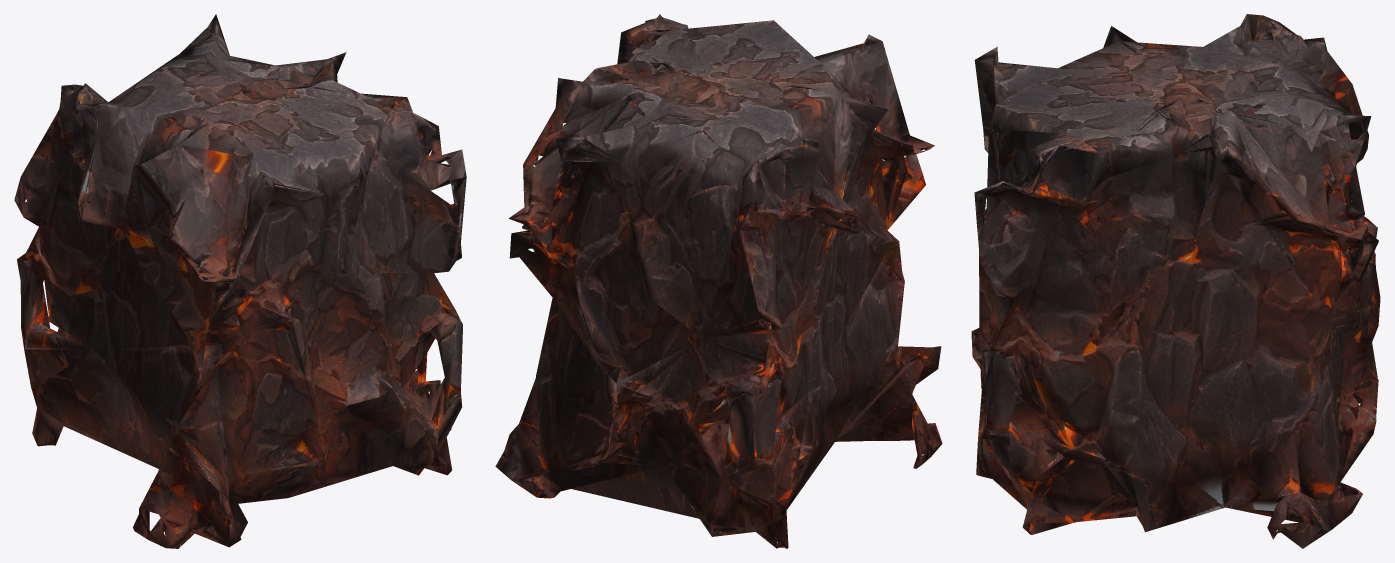
File: Tile_Lava_Wall.fbx
The picture shows the model from 3 angles, left to right: view 1: azimuth 30°, elevation 25°; view 2: azimuth 150°, elevation 25°; view 3: azimuth 270°, elevation 25°; orthographic projection. The views are drawn at different scales.
Parts seen in each view (by area): view 1: texture_mapping; view 2: texture_mapping; view 3: texture_mapping.
Part boxes in pixels (box(x1,y1,x2,y2)): texture_mapping: box(14, 14, 466, 548); texture_mapping: box(495, 14, 942, 548); texture_mapping: box(971, 14, 1380, 548).
Bounding box in the file's own units: 0.8344 × 0.9117 × 0.9664.
Materials: 1 (1 with a texture image).
